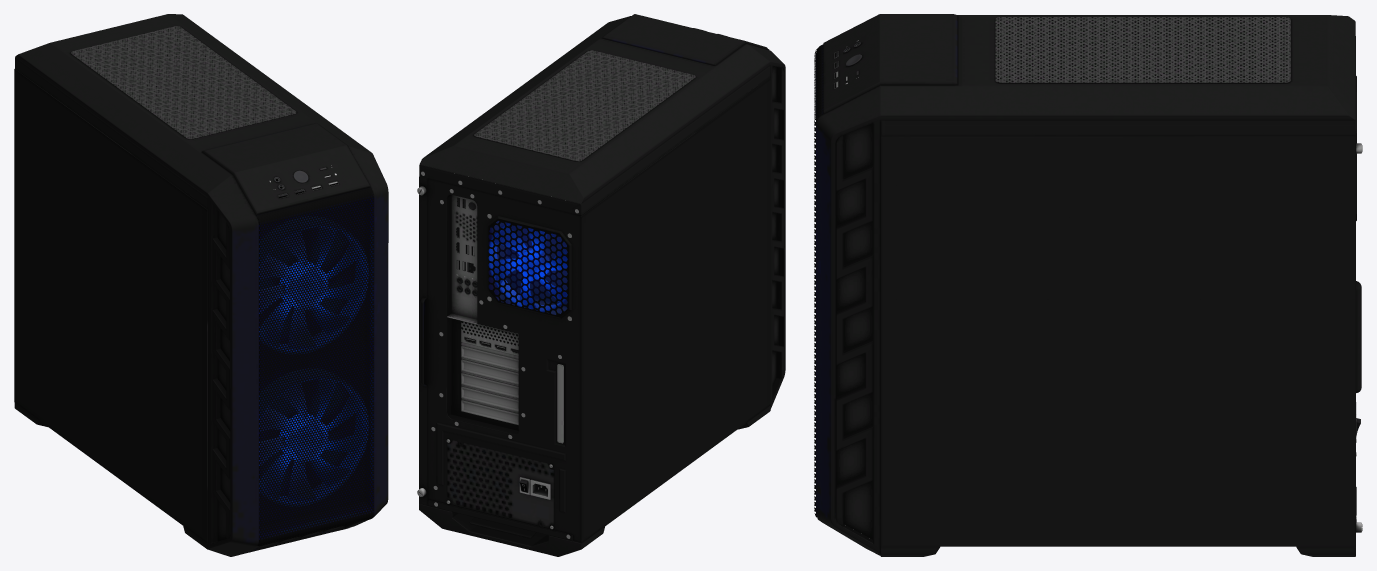
Rendered from computer1.glb.
The picture shows the model from 3 angles, left to right: view 1: azimuth 30°, elevation 25°; view 2: azimuth 150°, elevation 25°; view 3: azimuth 270°, elevation 25°; orthographic projection. The views are drawn at different scales.
Visible parts, largest first — view 1: SM_Computer02; view 2: SM_Computer02; view 3: SM_Computer02.
Part boxes in pixels (<box>): SM_Computer02: <box>14,14,388,556</box>; SM_Computer02: <box>417,14,785,556</box>; SM_Computer02: <box>814,14,1362,556</box>.
Bounding box in the file's own units: 0.2265 × 0.502 × 0.525.
1 material, 1 textured.
